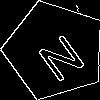N: (30, 25, 88, 84)
